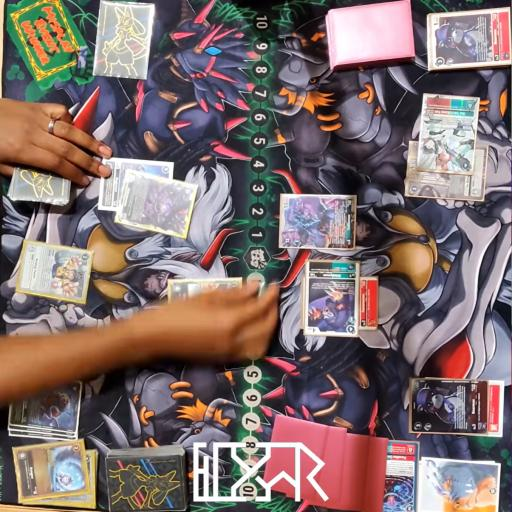card: (421, 6, 512, 72), (112, 172, 199, 241), (16, 236, 96, 305), (11, 437, 90, 502), (417, 94, 482, 170), (407, 378, 490, 435), (95, 159, 177, 213), (407, 144, 489, 198), (305, 260, 360, 340), (9, 372, 81, 432), (277, 196, 358, 248), (367, 438, 422, 512), (169, 274, 242, 312), (76, 451, 98, 510), (358, 275, 379, 333), (486, 376, 506, 434)
